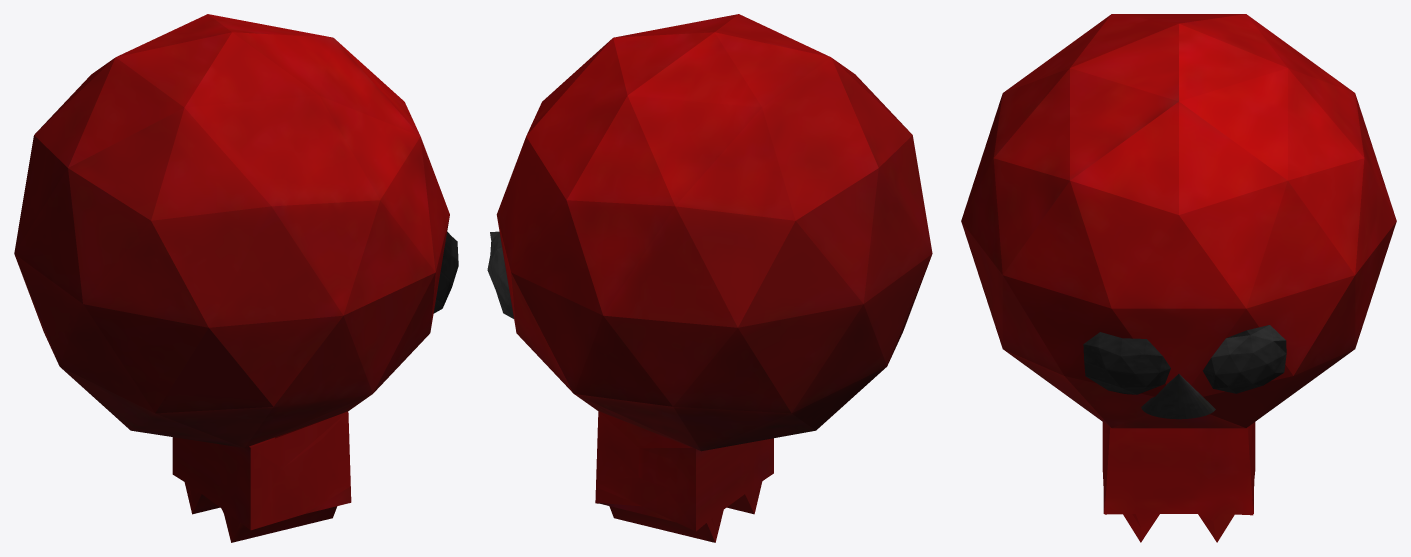
The model's file is redmask2.dae.
3 views of the same model, side by side, from view 1: azimuth 30°, elevation 25°; view 2: azimuth 150°, elevation 25°; view 3: azimuth 270°, elevation 25° (orthographic). The views are drawn at different scales.
Visible parts, largest first — view 1: Cube; view 2: Cube; view 3: Cube.
Part boxes in pixels (bbox=[...]): Cube: bbox=[14, 14, 458, 542]; Cube: bbox=[487, 14, 932, 542]; Cube: bbox=[961, 14, 1396, 542].
Size of the model in its own units: 0.2103 by 0.2155 by 0.2622.
Materials: 1 (1 with a texture image).
